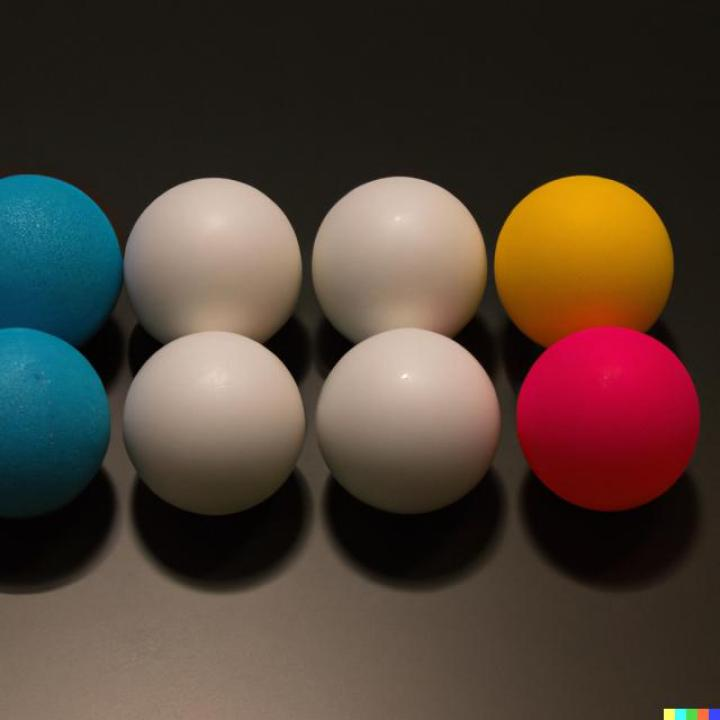white: (124, 330, 308, 516), (318, 329, 498, 514), (127, 177, 303, 346), (312, 177, 487, 341)
